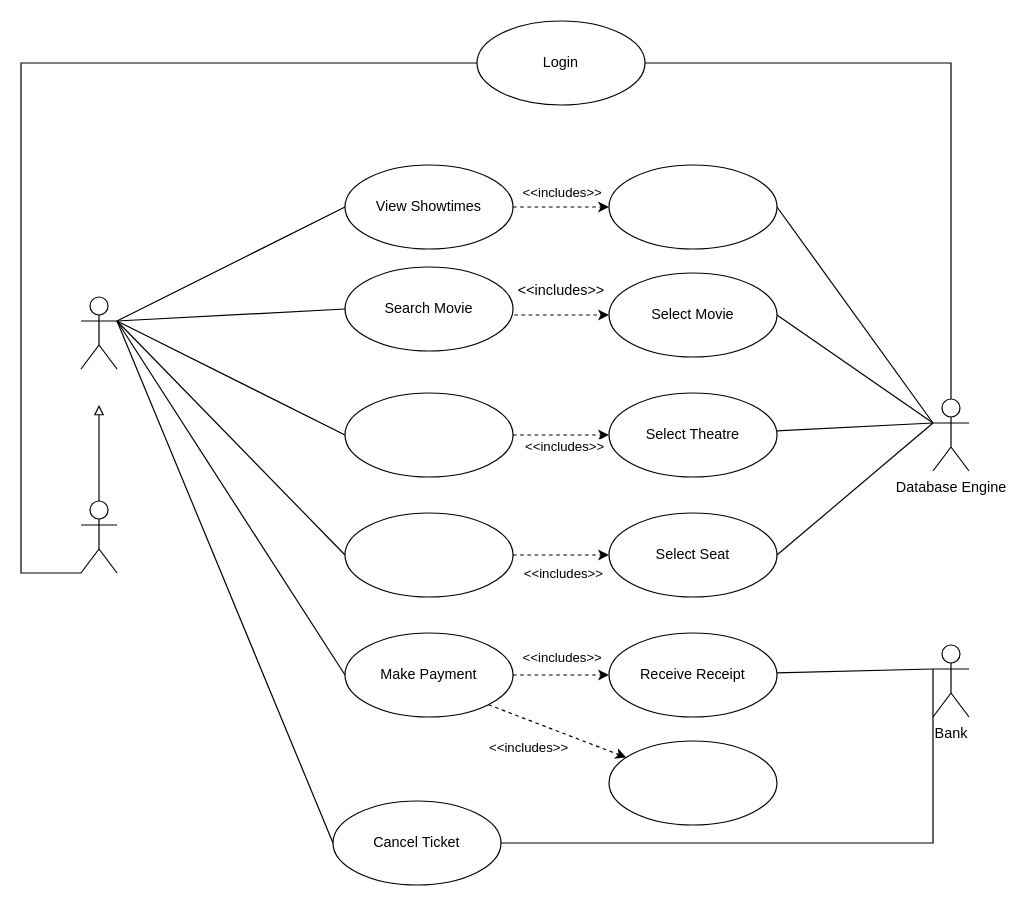
Some shapes in this 1027 by 906 pixel diagram are drawn without their labels. Each missing label, with the box of its shape:
Receive Ticket: (608, 740, 777, 825)
Registered User: (80, 500, 117, 573)
Select Showtime: (608, 164, 777, 249)
User: (80, 296, 117, 369)
View Seats: (344, 512, 513, 597)
View Theatre: (344, 392, 513, 477)
